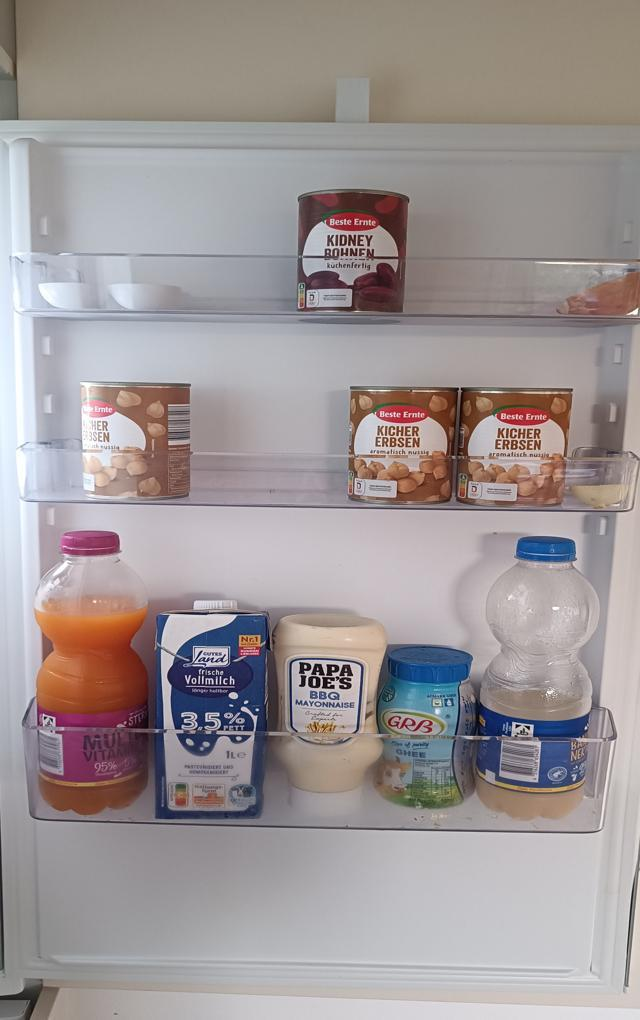bananajuice: (484, 538, 605, 819)
chickpeas: (81, 381, 194, 502), (350, 382, 459, 506), (464, 388, 567, 505)
ghee: (383, 639, 477, 807)
kidneybeans: (297, 191, 409, 320)
mayoniasie: (273, 611, 386, 819)
milk: (148, 596, 273, 823)
orangejuice: (36, 530, 151, 817)
